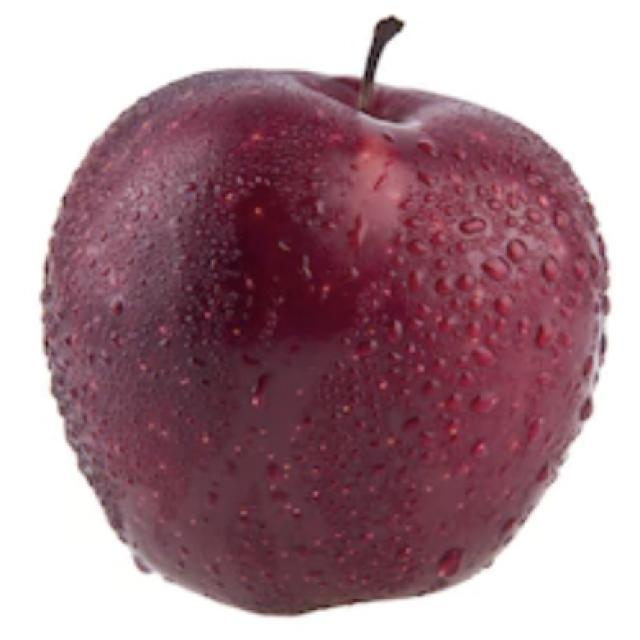Fresh Apple: (45, 63, 578, 640)
